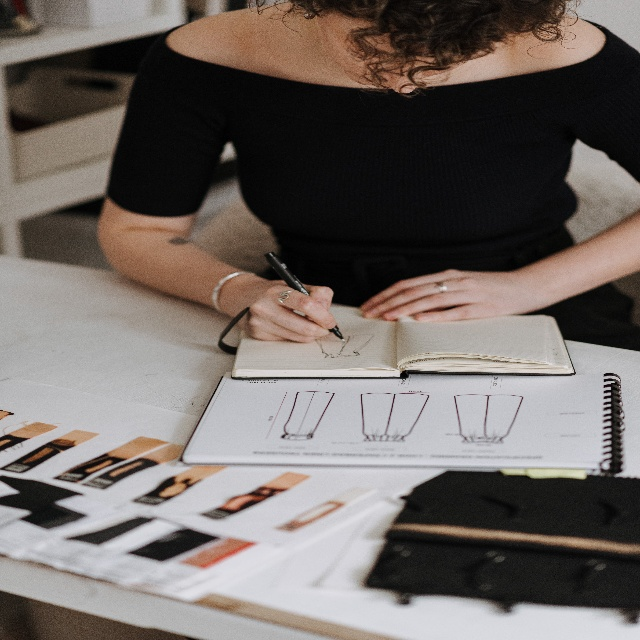Sin_guantes: (359, 267, 521, 323), (225, 273, 338, 343)
